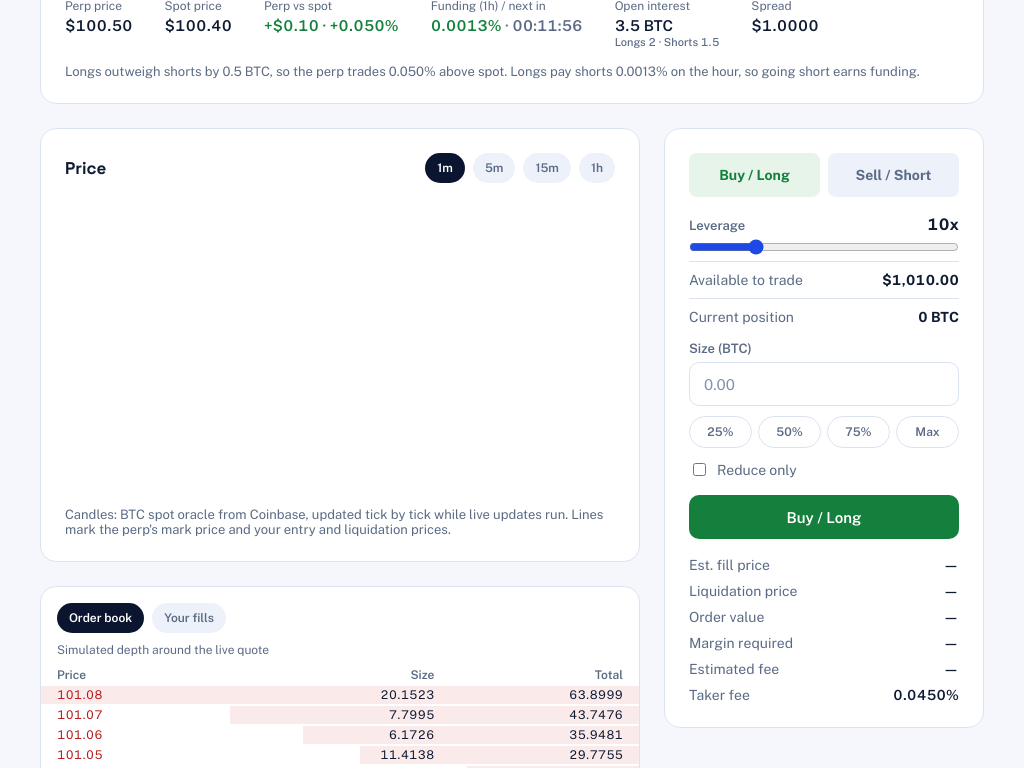
Scenario: PerpsComponent › shows the rejection reason returned by the API
This screenshot has width=1024, height=768.
(page scrolled)
In the number field labelled "Size (BTC)": [824, 384] box left=689, top=362, right=959, bottom=406, type "500"
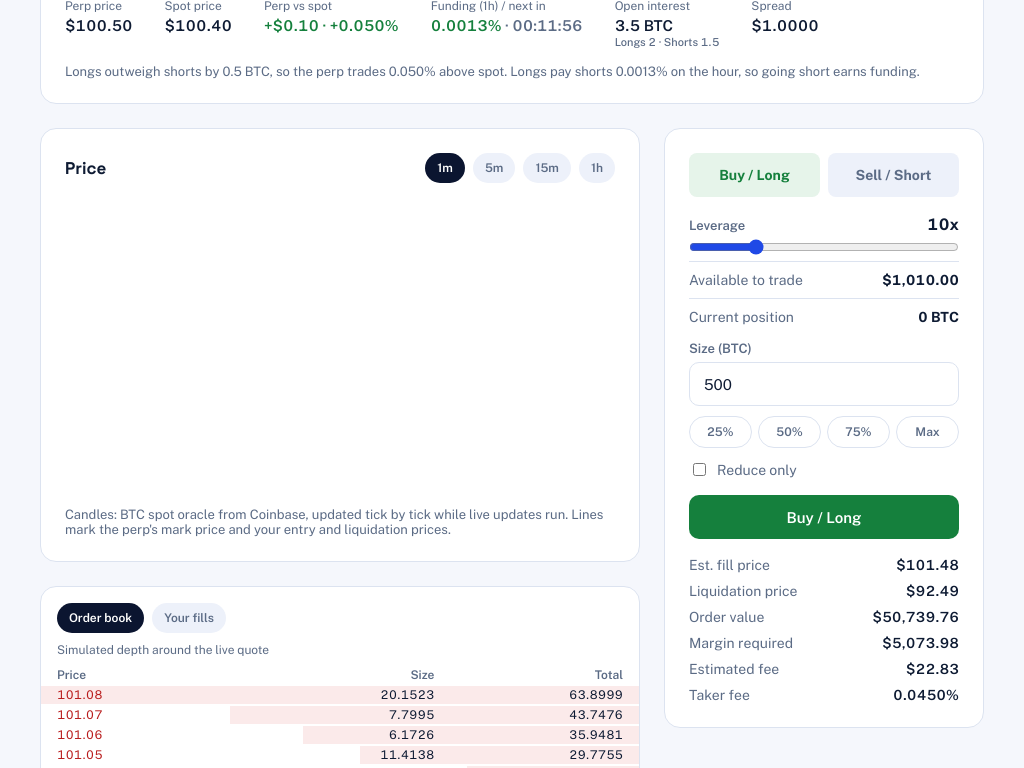
Click the button "Buy / Long": [824, 517] box left=689, top=495, right=959, bottom=539
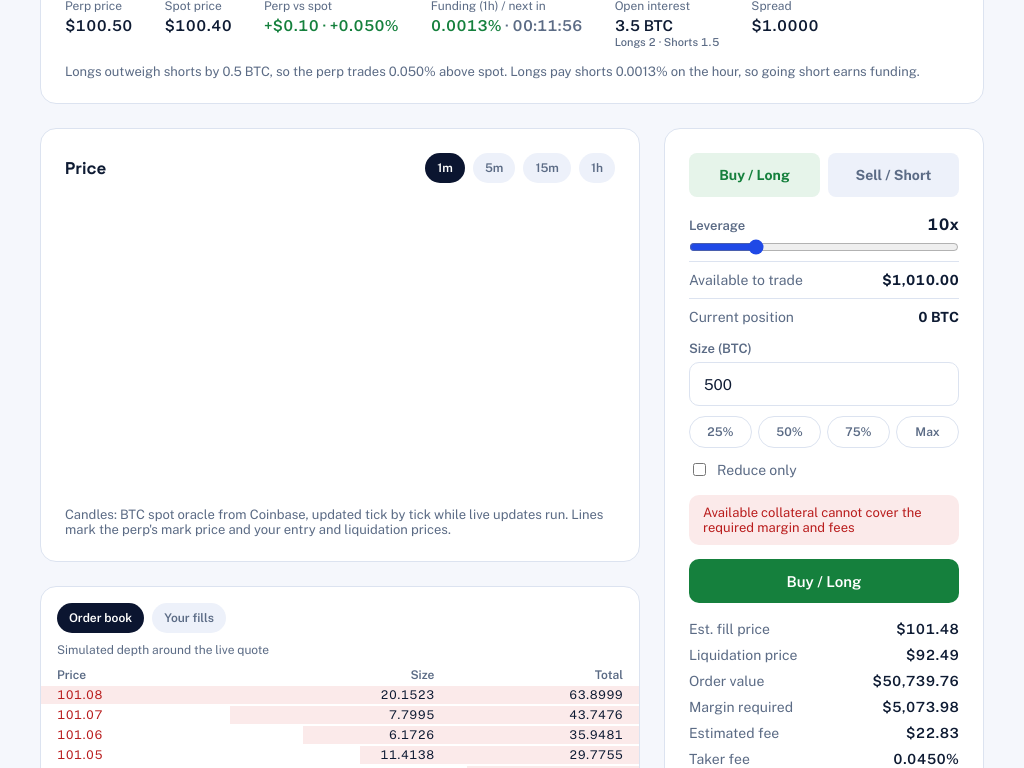
expect the message with test id "order-error" shows "Available collateral cannot cover": met, box left=703, top=505, right=922, bottom=535
